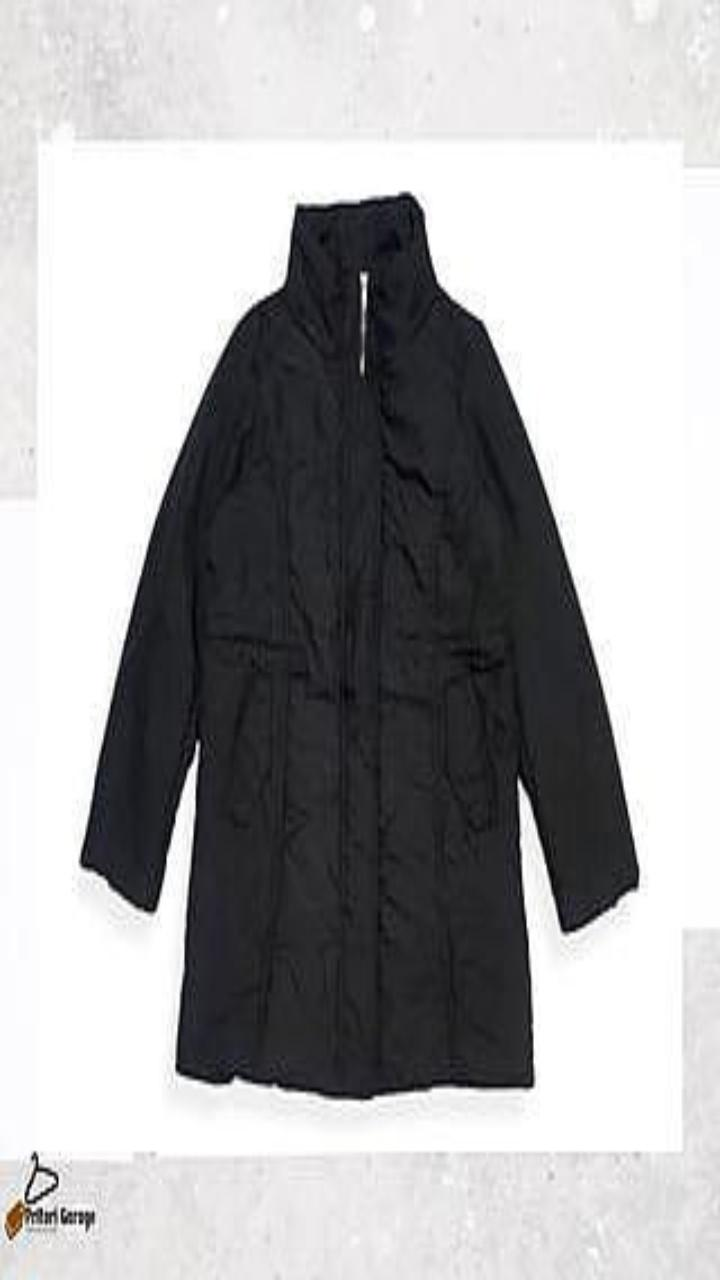Coat: (81, 194, 637, 1096)
